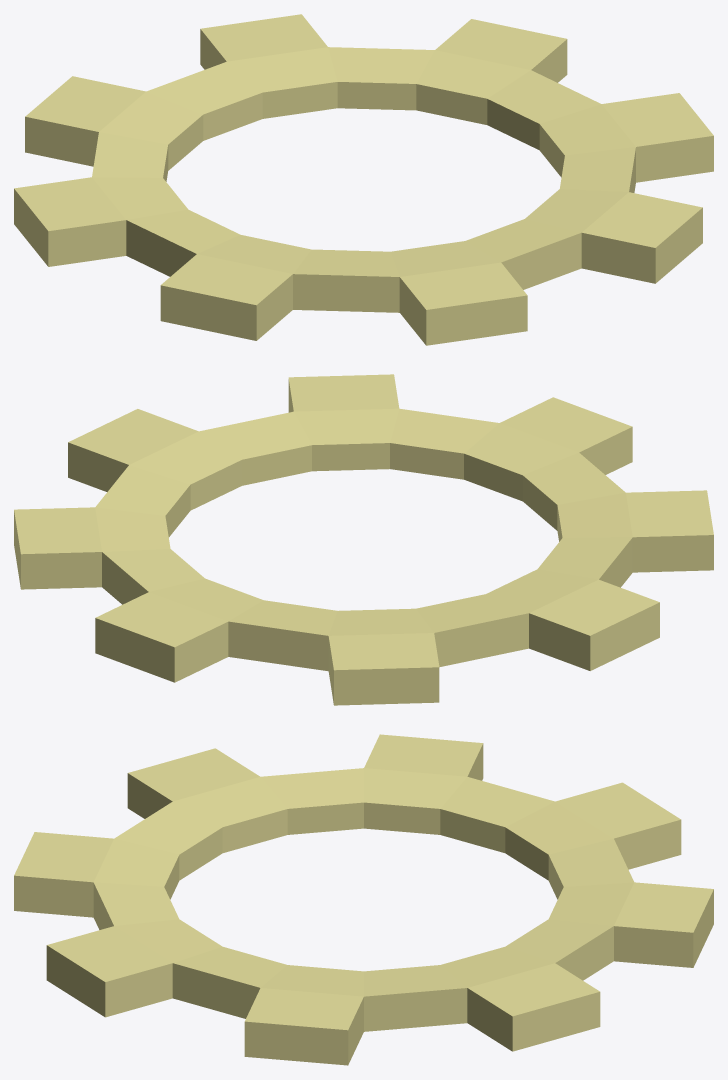
The model's file is Demo.fbx.
3 renders of one model, top to bottom at view 1: azimuth 30°, elevation 25°; view 2: azimuth 150°, elevation 25°; view 3: azimuth 270°, elevation 25°, orthographic.
Parts seen in each view (by area): view 1: Cube.004; view 2: Cube.004; view 3: Cube.004.
Boxes of the visible parts, box(x1,y1,x2,y2) form: Cube.004: box(14, 14, 713, 345); Cube.004: box(14, 374, 713, 705); Cube.004: box(14, 734, 713, 1065).
Size of the model in its own units: 133 by 7.42 by 133.
